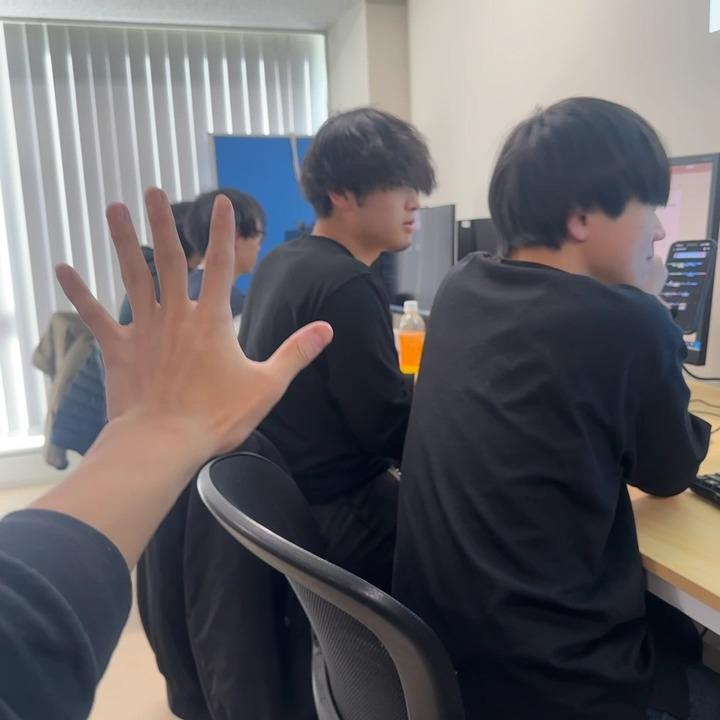without_gloves: (43, 158, 515, 611)
